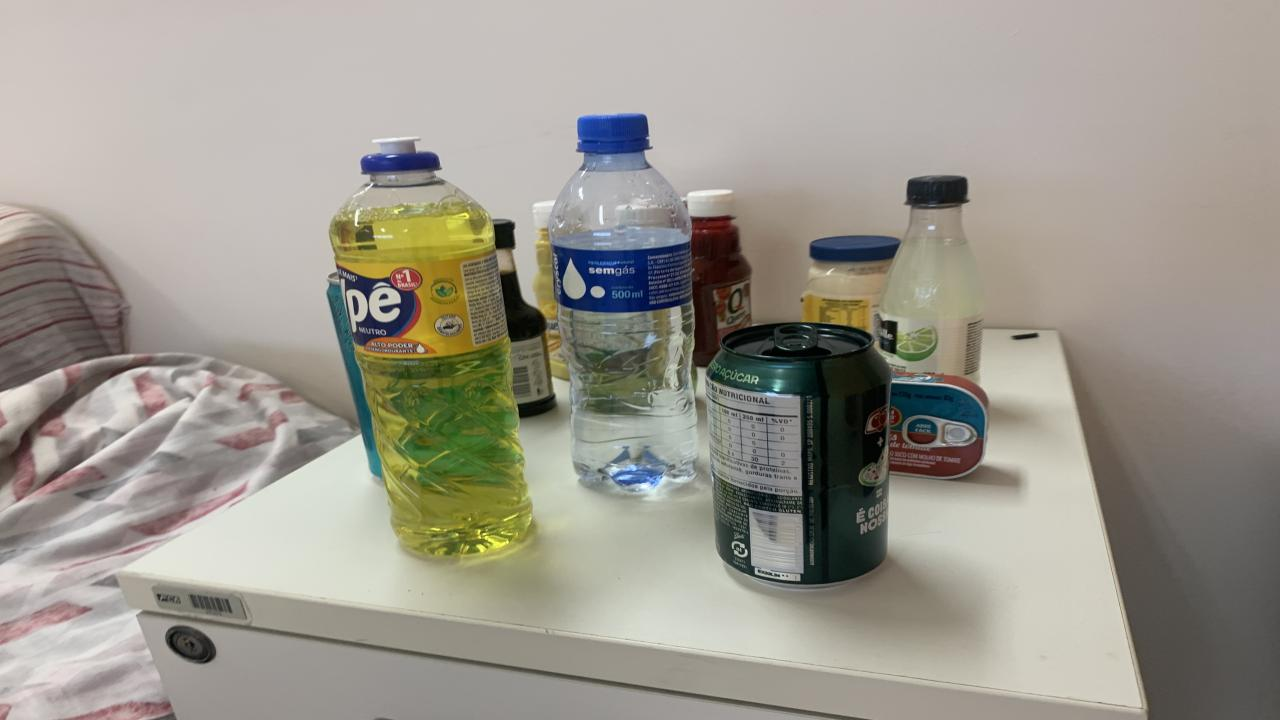Detergent-Cleanup_Items: (330, 141, 532, 555)
English_Sauce-Pantry_Items: (492, 219, 555, 416)
Guarana_Can-Drinks: (705, 322, 890, 587)
Ketchup-Pantry_Items: (682, 189, 752, 368), (802, 234, 900, 336)
Mayonnaise-Pantry_Items: (802, 234, 900, 336), (808, 236, 900, 298)
Mustard-Pantry_Items: (532, 201, 570, 379)
Soda-Drinks: (880, 174, 985, 382)
Tuna_Can-Pantry_Items: (888, 371, 990, 480), (802, 259, 890, 336)
Water_Bottle-Drinks: (550, 114, 698, 493)
